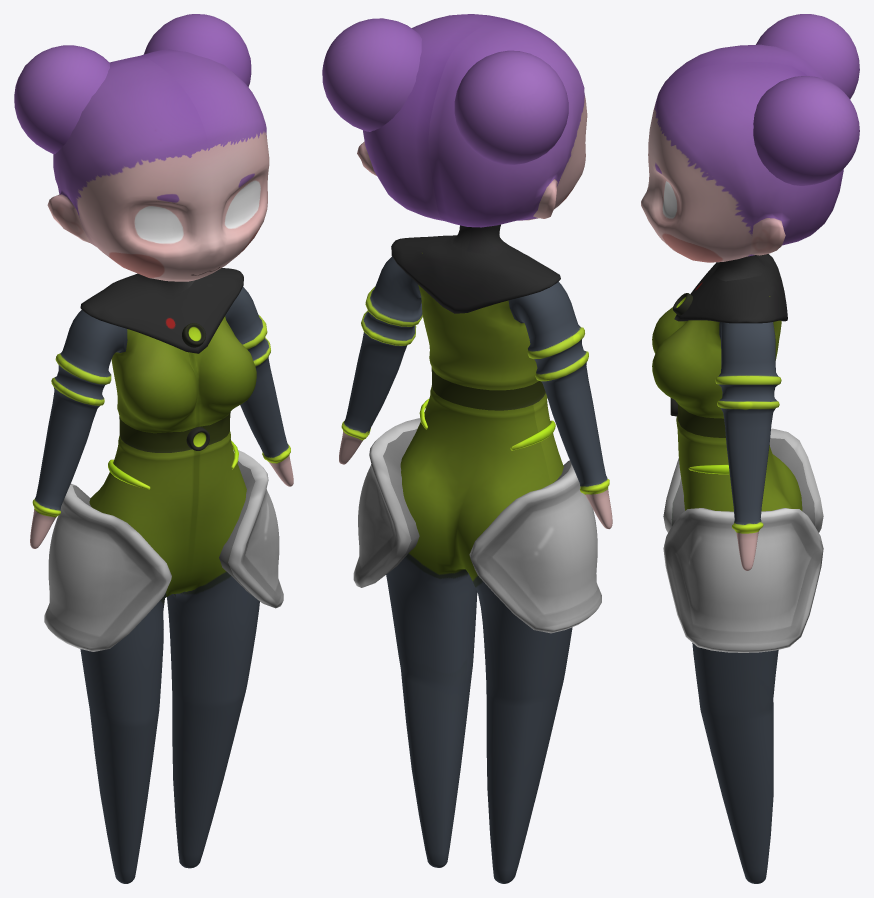
File: GameJam_Character 1.FBX
3 renders of one model, left to right at view 1: azimuth 30°, elevation 25°; view 2: azimuth 150°, elevation 25°; view 3: azimuth 270°, elevation 25°, orthographic. The views are drawn at different scales.
Parts seen in each view (by area): view 1: Body; view 2: Body; view 3: Body.
Part boxes in pixels (x1,y1,x2,y2): Body: (14,14,293,883); Body: (322,14,612,883); Body: (641,14,859,883).
Bounding box in the file's own units: 22.13 × 66.6 × 16.15.
1 material, 1 textured.
